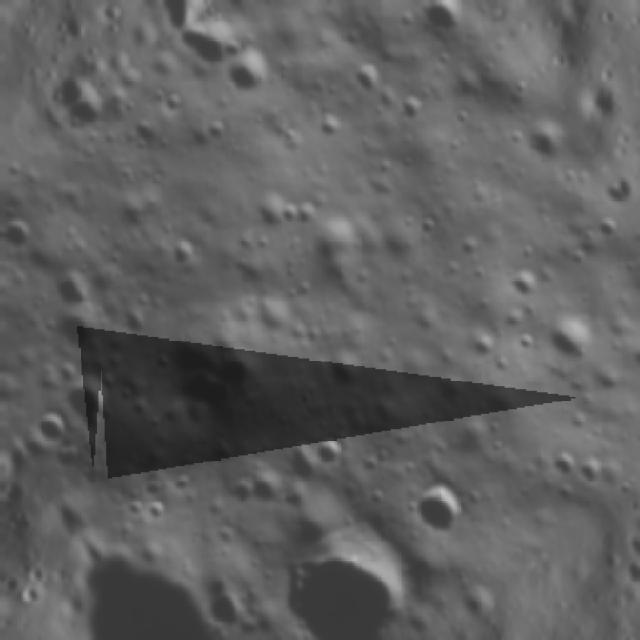crater: (257, 521, 408, 640), (388, 461, 482, 554), (508, 101, 584, 177), (50, 362, 124, 438), (170, 15, 236, 83), (190, 572, 253, 640), (218, 44, 282, 108), (536, 305, 599, 367), (38, 299, 100, 361), (42, 258, 100, 314), (17, 400, 74, 454), (302, 422, 355, 475), (0, 208, 43, 264), (410, 0, 471, 38), (581, 205, 621, 248), (624, 284, 640, 361)
